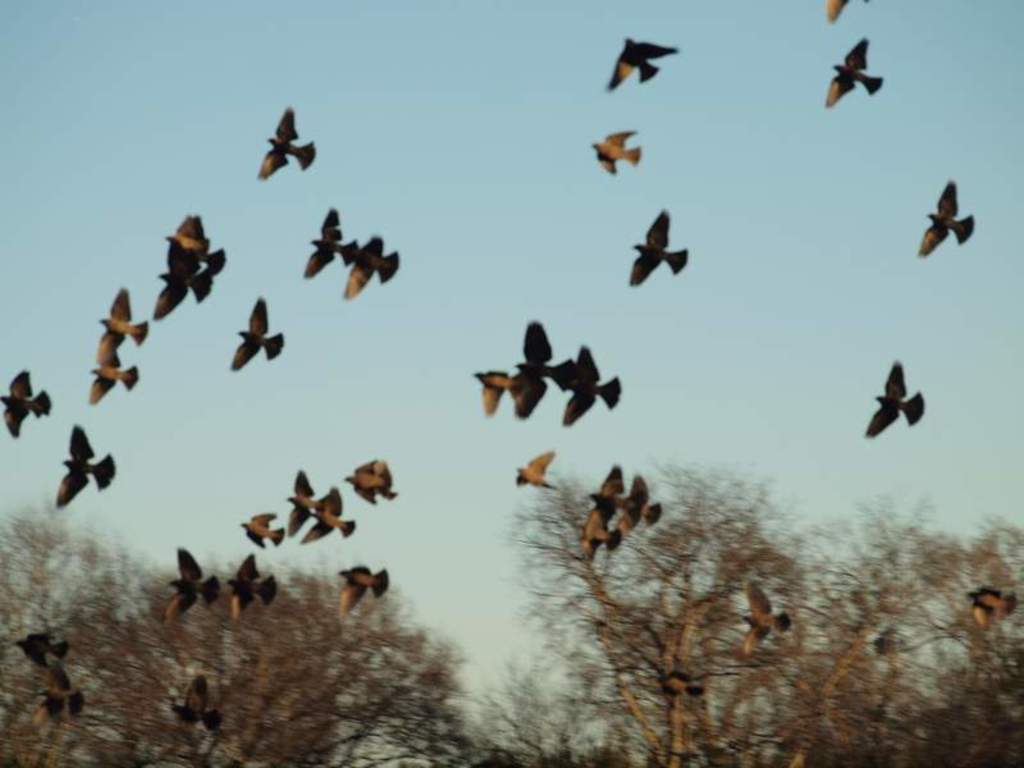person: (242, 458, 399, 619)
